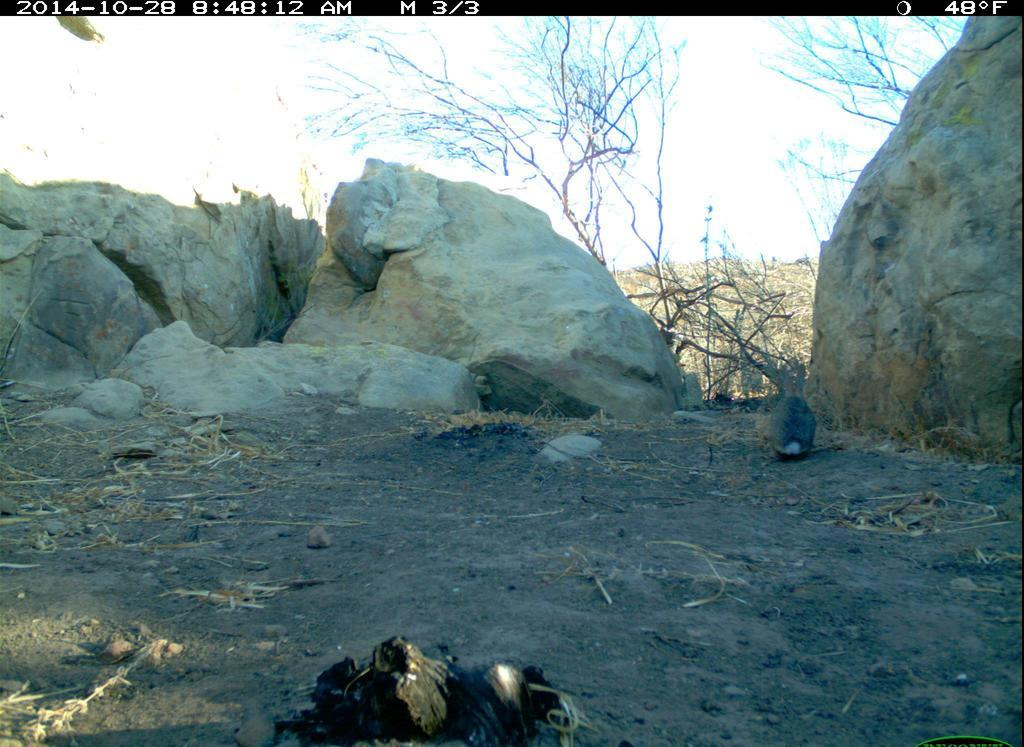rabbit: (742, 342, 826, 486)
